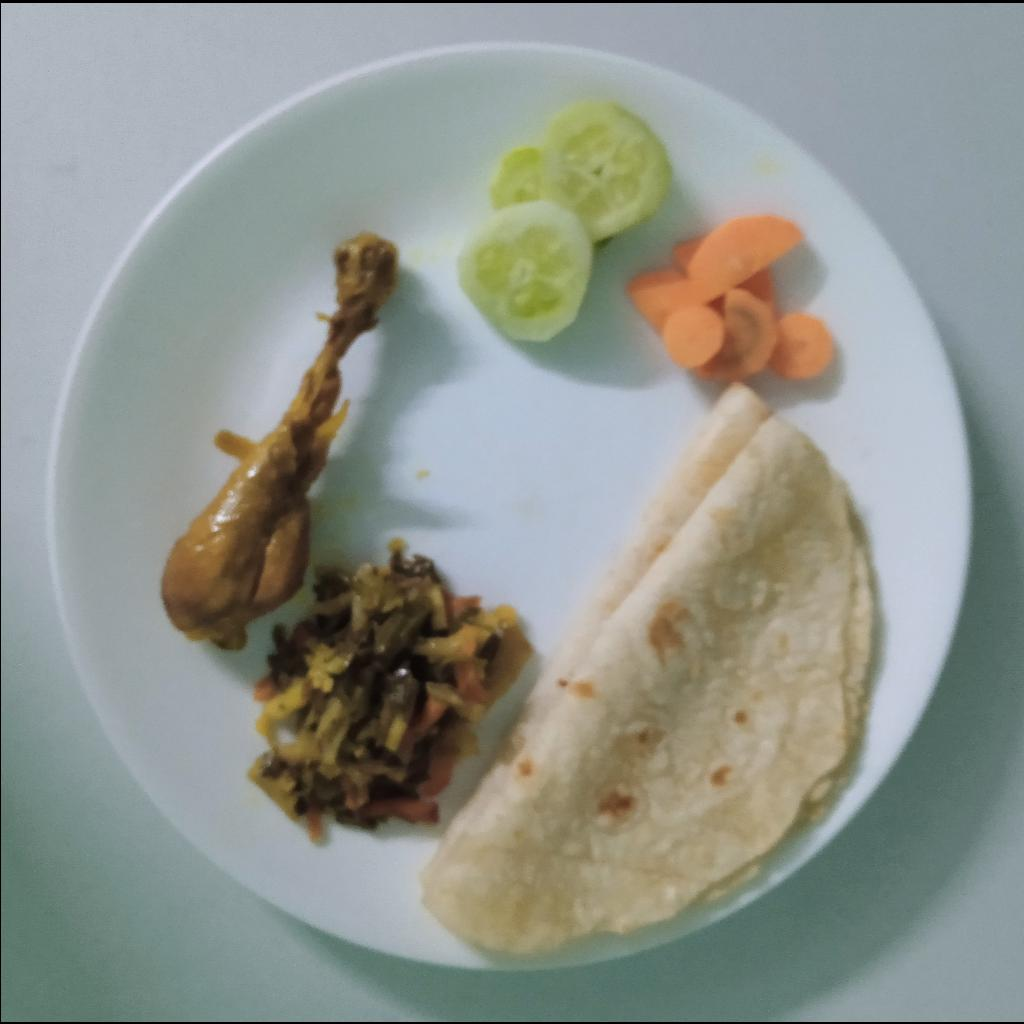carrot: (620, 212, 836, 385)
chicken: (157, 225, 398, 654)
cucumber: (453, 94, 675, 345)
ruti: (404, 382, 876, 953)
vegetable: (241, 540, 535, 845)
